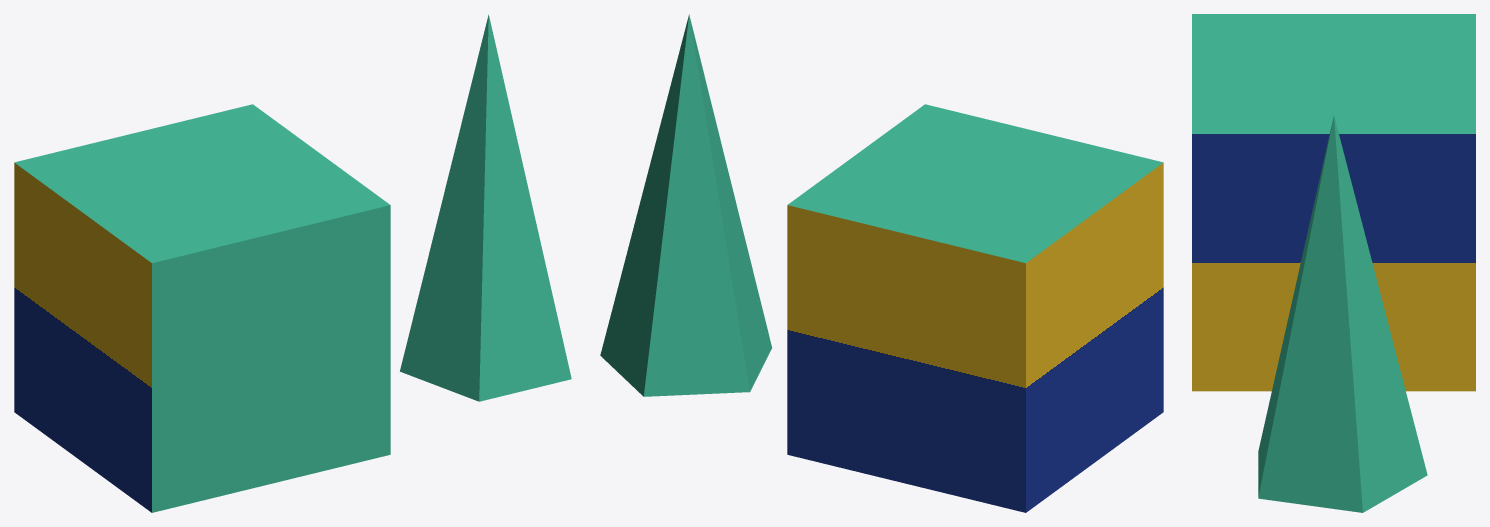
Rendered from props_external.FBX.
3 views of the same model, side by side, from view 1: azimuth 30°, elevation 25°; view 2: azimuth 150°, elevation 25°; view 3: azimuth 270°, elevation 25° (orthographic). The views are drawn at different scales.
Visible parts, largest first — view 1: Crate, Marker; view 2: Crate, Marker; view 3: Crate, Marker.
Boxes of the visible parts, bbox=[...] form: Crate: bbox=[14, 104, 390, 512]; Marker: bbox=[400, 14, 571, 401]; Crate: bbox=[787, 104, 1163, 512]; Marker: bbox=[600, 14, 771, 396]; Crate: bbox=[1192, 14, 1475, 391]; Marker: bbox=[1258, 116, 1427, 512].
Bounding box in the file's own units: 201 × 100 × 140.
2 materials, 1 textured.
